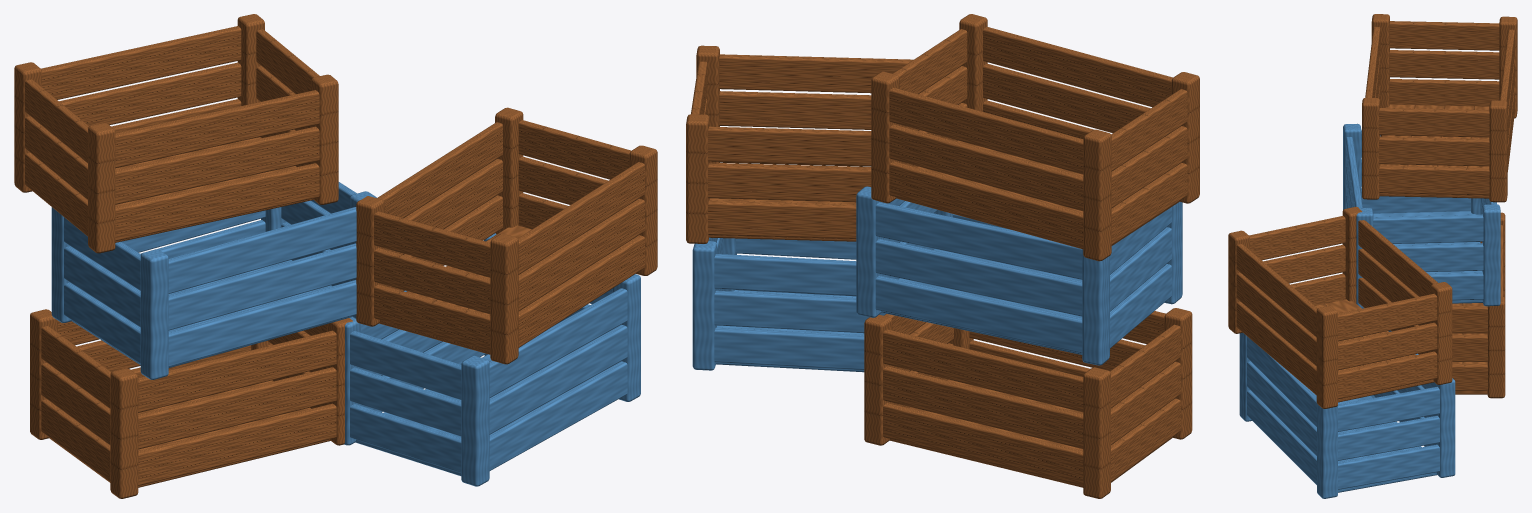
Rendered from greek-island-village-and-harbour-fish-crate-stack-fd171841__37110.glb.
3 views of the same model, side by side, from view 1: azimuth 30°, elevation 25°; view 2: azimuth 150°, elevation 25°; view 3: azimuth 270°, elevation 25° (orthographic). The views are drawn at different scales.
Parts seen in each view (by area): view 1: fish-crate-stack; view 2: fish-crate-stack; view 3: fish-crate-stack.
Boxes of the visible parts, x1,y1,x2,y2 form: fish-crate-stack: (14, 14, 657, 498); fish-crate-stack: (686, 14, 1199, 498); fish-crate-stack: (1228, 14, 1517, 498).
Size of the model in its own units: 1.37 by 0.9 by 0.8156.
Materials: 2 (2 with a texture image).
